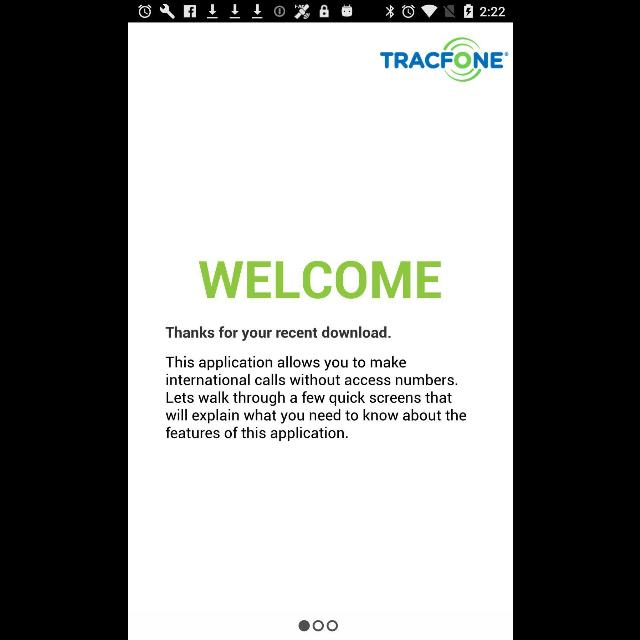image: (380, 38, 508, 82)
pageindicator: (298, 620, 338, 632)
text: (164, 356, 466, 442), (198, 261, 440, 299), (164, 326, 390, 342)
uppertaskbar: (128, 1, 512, 23)
